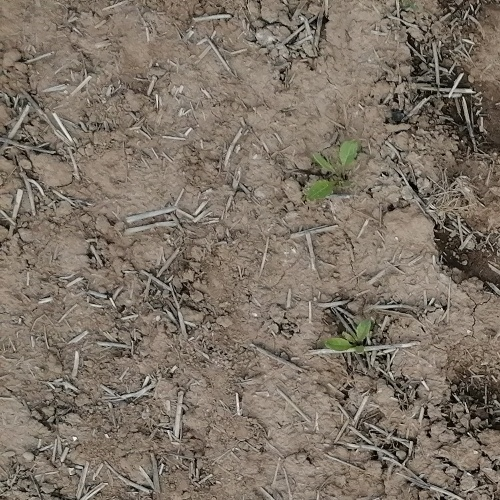beet: (309, 140, 358, 201), (324, 321, 370, 356)
